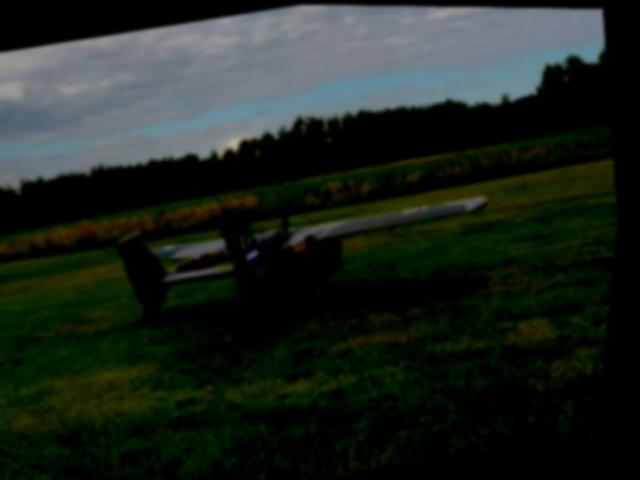uav: (98, 160, 513, 342)
